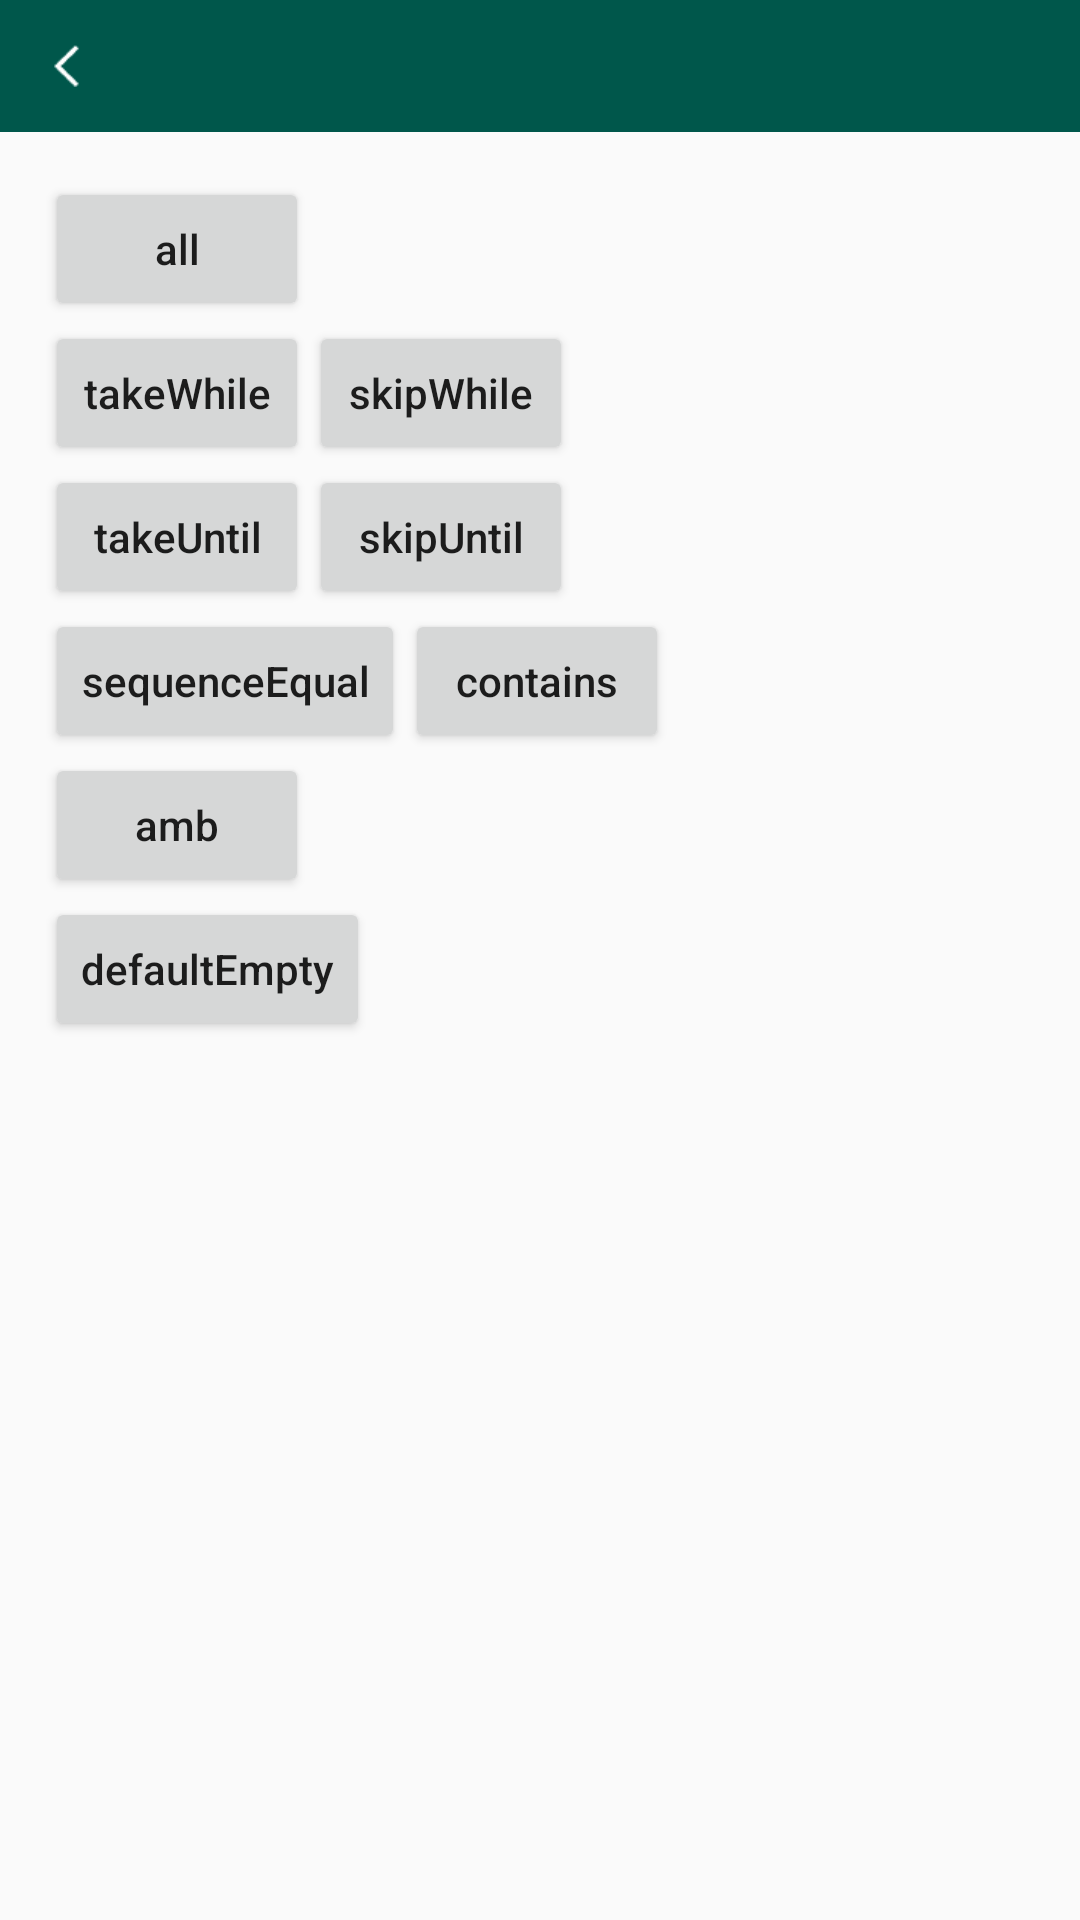

Screen size 1080x1920. Icon name, then its box in pixels as (x1=x1, y1=y1, x2=x2, y2=y2):
back: (x1=54, y1=45, x2=79, y2=87)
